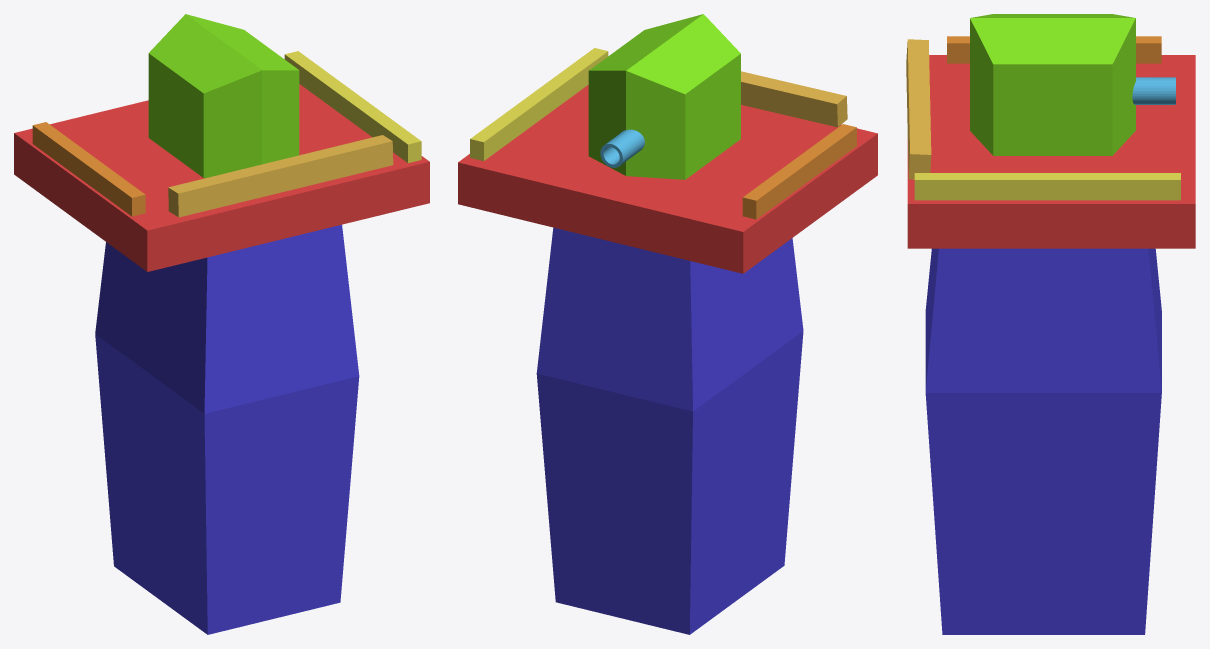
The model's file is kule Level2.fbx.
3 views of the same model, side by side, from view 1: azimuth 30°, elevation 25°; view 2: azimuth 150°, elevation 25°; view 3: azimuth 270°, elevation 25° (orthographic). The views are drawn at different scales.
Visible parts, largest first — view 1: TowerBase, TowerHead, GunPlaceHolder, Cube.002, Cube, Cube.001; view 2: TowerBase, TowerHead, GunPlaceHolder, Cube, Cube.002, Cube.001, Gun.001; view 3: TowerBase, TowerHead, GunPlaceHolder, Cube, Cube.002, Cube.001, Gun.001.
Boxes of the visible parts, x1,y1,x2,y2 form: TowerBase: (95, 224, 359, 634); TowerHead: (14, 84, 429, 271); GunPlaceHolder: (148, 14, 299, 178); Cube.002: (168, 135, 393, 217); Cube: (284, 51, 421, 162); Cube.001: (32, 122, 145, 216); TowerBase: (536, 227, 803, 634); TowerHead: (458, 85, 877, 273); GunPlaceHolder: (588, 14, 740, 179); Cube: (470, 48, 608, 160); Cube.002: (741, 71, 847, 127); Cube.001: (742, 124, 856, 219); Gun.001: (600, 129, 644, 167); TowerBase: (925, 248, 1161, 634); TowerHead: (907, 55, 1195, 248); GunPlaceHolder: (970, 14, 1135, 155); Cube: (914, 173, 1180, 200); Cube.002: (906, 39, 931, 179); Cube.001: (947, 36, 1161, 63); Gun.001: (1132, 77, 1175, 104).
Size of the model in its own units: 591 by 1078 by 485.
